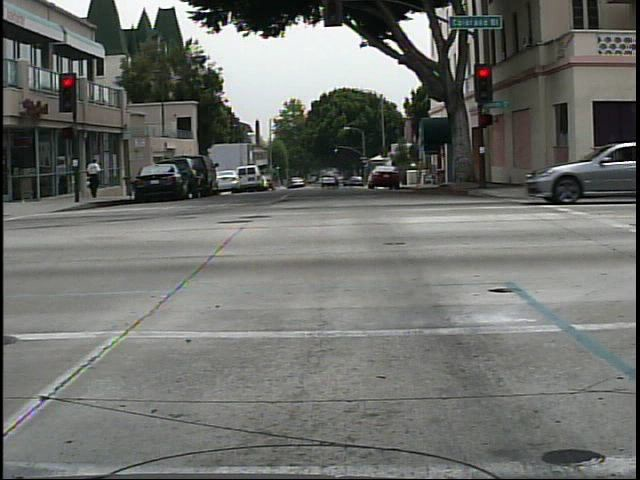person: (470, 141, 500, 194), (88, 154, 106, 201)
